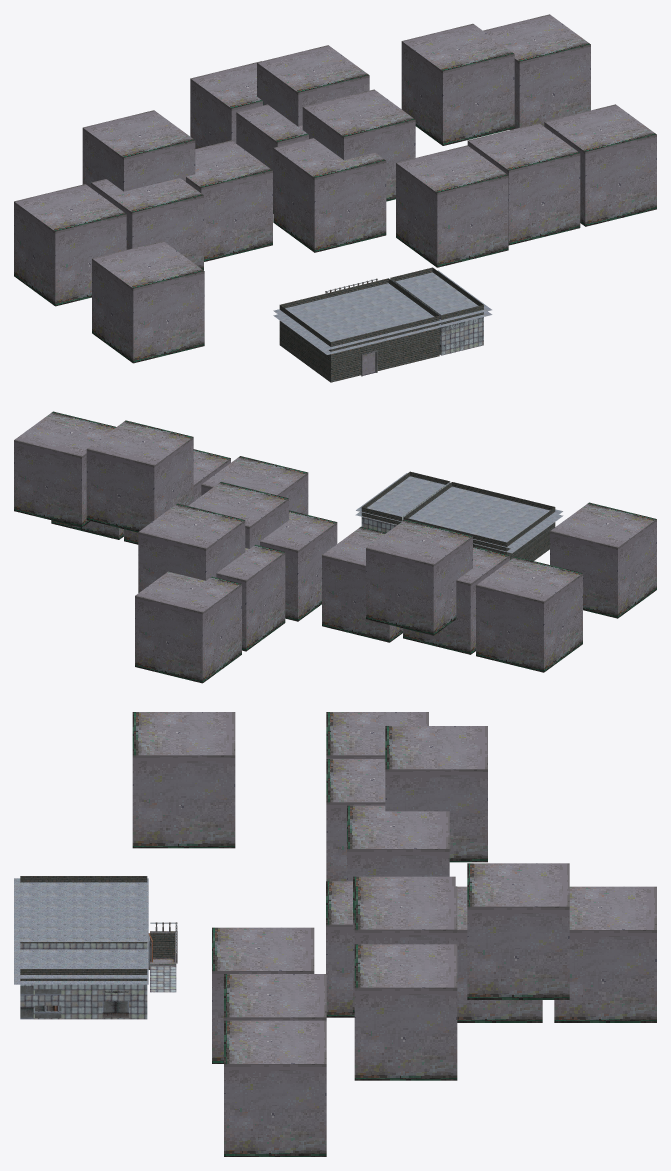
The model's file is restaurant.glb.
3 renders of one model, top to bottom at view 1: azimuth 30°, elevation 25°; view 2: azimuth 150°, elevation 25°; view 3: azimuth 270°, elevation 25°, orthographic. The views are drawn at different scales.
Visible parts, largest first — view 1: skyboxcube.003, skyboxcube.014, skyboxcube.011, skyboxcube, skyboxcube.008, skyboxcube.005, skyboxcube.004, LevelGeo-col, Ceiling, skyboxcube.012, skyboxcube.006, skyboxcube.013 (+5 smaller); view 2: skyboxcube.008, skyboxcube.002, skyboxcube.011, skyboxcube.013, skyboxcube.014, skyboxcube.012, Ceiling, skyboxcube.010, skyboxcube.006, skyboxcube, skyboxcube.001, LevelGeo-col (+5 smaller); view 3: skyboxcube.012, skyboxcube.014, skyboxcube.005, skyboxcube.010, skyboxcube.002, Ceiling, skyboxcube.013, LevelGeo-col, skyboxcube.006, skyboxcube.011, skyboxcube.003, skyboxcube.004 (+5 smaller).
Part boxes in pixels (left/top/right/bottom): skyboxcube.003: left=396, top=145, right=508, bottom=267; skyboxcube.014: left=92, top=241, right=204, bottom=363; skyboxcube.011: left=401, top=23, right=514, bottom=145; skyboxcube: left=273, top=138, right=386, bottom=252; skyboxcube.008: left=14, top=184, right=126, bottom=306; skyboxcube.005: left=544, top=104, right=656, bottom=226; skyboxcube.004: left=467, top=123, right=580, bottom=245; LevelGeo-col: left=279, top=267, right=483, bottom=382; Ceiling: left=273, top=270, right=492, bottom=354; skyboxcube.012: left=483, top=14, right=590, bottom=129; skyboxcube.006: left=186, top=140, right=272, bottom=261; skyboxcube.013: left=82, top=110, right=195, bottom=191; skyboxcube.008: left=476, top=556, right=582, bottom=672; skyboxcube.002: left=135, top=571, right=241, bottom=683; skyboxcube.011: left=86, top=420, right=193, bottom=532; skyboxcube.013: left=366, top=519, right=472, bottom=635; skyboxcube.014: left=550, top=502, right=656, bottom=618; skyboxcube.012: left=14, top=411, right=116, bottom=527; Ceiling: left=355, top=473, right=563, bottom=553; skyboxcube.010: left=138, top=503, right=245, bottom=592; skyboxcube.006: left=322, top=526, right=402, bottom=642; skyboxcube: left=260, top=510, right=337, bottom=621; skyboxcube.001: left=216, top=544, right=285, bottom=651; LevelGeo-col: left=361, top=471, right=555, bottom=560; skyboxcube.012: left=354, top=944, right=457, bottom=1080; skyboxcube.014: left=132, top=712, right=235, bottom=848; skyboxcube.005: left=224, top=1020, right=326, bottom=1156; skyboxcube.010: left=467, top=863, right=569, bottom=999; skyboxcube.002: left=554, top=886, right=656, bottom=1022; Ceiling: left=14, top=878, right=148, bottom=984; skyboxcube.013: left=385, top=726, right=487, bottom=862; LevelGeo-col: left=20, top=876, right=177, bottom=1019; skyboxcube.006: left=347, top=805, right=449, bottom=881; skyboxcube.011: left=354, top=886, right=457, bottom=944; skyboxcube.003: left=212, top=927, right=314, bottom=1063; skyboxcube.004: left=224, top=974, right=326, bottom=1020.
Size of the model in its own units: 60.81 by 15.84 by 48.6.
13 materials, 13 textured.
